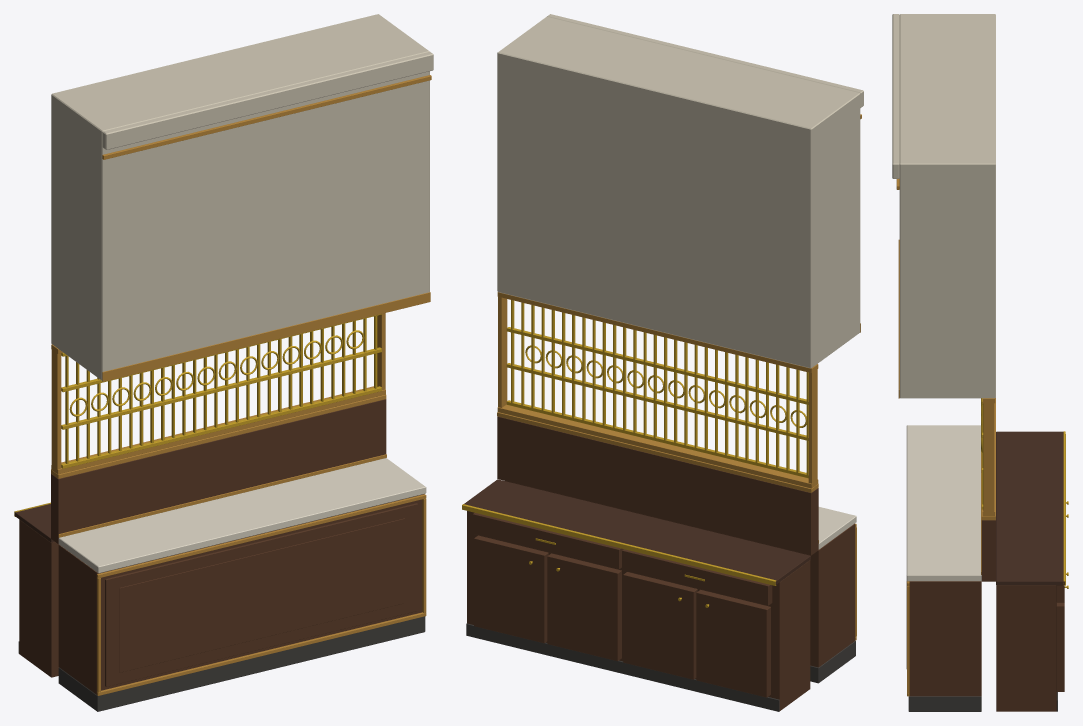
Rendered from prop_of_teller_bay_closed.glb.
3 renders of one model, left to right at view 1: azimuth 30°, elevation 25°; view 2: azimuth 150°, elevation 25°; view 3: azimuth 270°, elevation 25°, orthographic. The views are drawn at different scales.
Visible parts, largest first — view 1: Counter; view 2: Counter; view 3: Counter.
Part boxes in pixels (bbox=[...]): Counter: bbox=[14, 14, 433, 711]; Counter: bbox=[462, 14, 863, 711]; Counter: bbox=[892, 14, 1068, 711].
Size of the model in its own units: 2.47 by 4.2 by 1.22.
